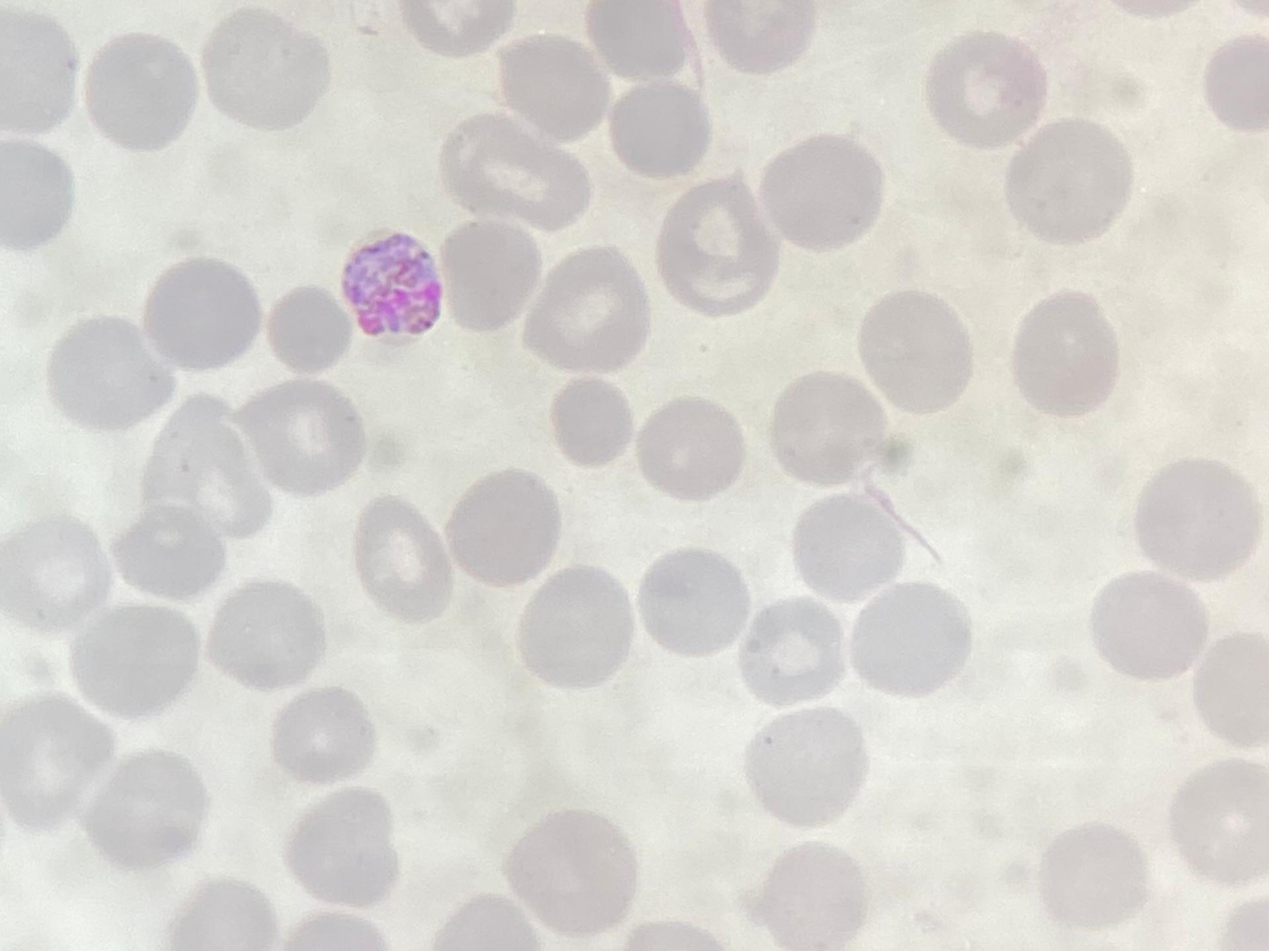Infected: (340, 228, 445, 347)
Uninfected: (139, 398, 272, 539), (435, 111, 591, 229), (502, 808, 635, 936), (654, 182, 779, 317), (521, 247, 650, 373), (233, 378, 366, 497), (1132, 457, 1258, 581), (202, 7, 329, 130), (1005, 120, 1130, 243), (927, 27, 1048, 152), (83, 750, 207, 869), (73, 601, 200, 716), (758, 134, 883, 250), (45, 316, 171, 430), (744, 707, 865, 825), (857, 289, 973, 412), (1, 695, 109, 827), (849, 584, 974, 698), (516, 566, 633, 687), (443, 469, 560, 588), (284, 790, 400, 909), (1012, 291, 1122, 416), (85, 33, 199, 151), (142, 257, 262, 369), (767, 370, 884, 483), (353, 494, 457, 619), (206, 580, 324, 690), (1, 512, 110, 629), (1090, 572, 1206, 681), (637, 547, 748, 658), (791, 492, 904, 601), (108, 502, 229, 603), (751, 844, 869, 947), (738, 597, 847, 706), (634, 396, 745, 502), (436, 219, 540, 332), (1036, 823, 1149, 927), (494, 35, 607, 137), (1171, 761, 1268, 878), (607, 79, 714, 178), (269, 685, 375, 783), (1, 9, 79, 133), (582, 0, 693, 85), (697, 0, 818, 74), (1190, 633, 1269, 742), (1, 139, 75, 250), (549, 375, 635, 466), (165, 880, 274, 948), (266, 285, 352, 371), (397, 1, 513, 57), (1204, 36, 1268, 129)
